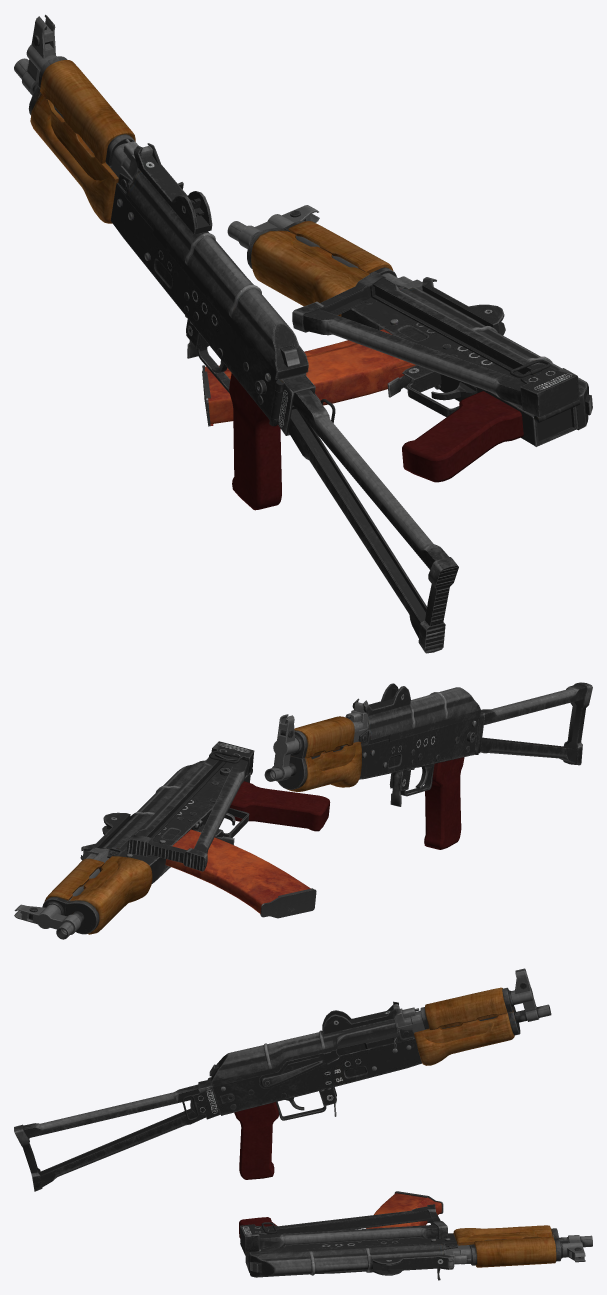
The model's file is aks74u.glb.
3 renders of one model, top to bottom at view 1: azimuth 30°, elevation 25°; view 2: azimuth 150°, elevation 25°; view 3: azimuth 270°, elevation 25°, orthographic. The views are drawn at different scales.
Parts seen in each view (by area): view 1: stock, stock.001, dust cover rear sight, receiver, receiver.001, pistol grip.001, magazine.003, hand guard bottom.001, pistol grip, hand guard top, hand guard bottom, dust cover rear sight.001 (+3 smaller); view 2: magazine.003, receiver, stock.001, dust cover rear sight, stock, hand guard bottom.001, receiver.001, pistol grip.001, pistol grip, hand guard bottom, dust cover rear sight.001, hand guard top (+3 smaller); view 3: receiver, stock, dust cover rear sight.001, stock.001, dust cover rear sight, hand guard bottom, pistol grip, hand guard top.001, hand guard top, receiver.001, hand guard bottom.001, safety switch lever (+4 smaller).
Part boxes in pixels (box(x1,y1,x2,y2)): stock: box(269, 374, 458, 653); stock.001: box(292, 271, 580, 423); dust cover rear sight: box(128, 143, 308, 379); receiver: box(110, 139, 306, 419); receiver.001: box(341, 273, 592, 446); pistol grip.001: box(402, 391, 523, 482); magazine.003: box(202, 329, 415, 426); hand guard bottom.001: box(247, 228, 369, 316); pistol grip: box(229, 373, 281, 510); hand guard top: box(38, 56, 135, 165); hand guard bottom: box(28, 86, 118, 223); dust cover rear sight.001: box(399, 277, 588, 430); magazine.003: box(165, 829, 316, 918); receiver: box(340, 702, 479, 806); stock.001: box(126, 741, 254, 871); dust cover rear sight: box(352, 683, 480, 741); stock: box(474, 682, 592, 765); hand guard bottom.001: box(65, 856, 152, 934); receiver.001: box(82, 768, 250, 883); pistol grip.001: box(229, 781, 330, 831); pistol grip: box(424, 757, 464, 849); hand guard bottom: box(277, 741, 361, 791); dust cover rear sight.001: box(80, 760, 205, 860); hand guard top: box(290, 716, 354, 757); receiver: box(209, 1004, 426, 1120); stock: box(14, 1077, 220, 1191); dust cover rear sight.001: box(249, 1243, 453, 1277); stock.001: box(240, 1204, 447, 1256); dust cover rear sight: box(211, 1001, 398, 1086); hand guard bottom: box(414, 1006, 520, 1065); pistol grip: box(234, 1102, 278, 1179); hand guard top.001: box(469, 1236, 562, 1267); hand guard top: box(420, 987, 513, 1029); receiver.001: box(245, 1233, 471, 1272); hand guard bottom.001: box(453, 1225, 558, 1245); safety switch lever: box(258, 1049, 339, 1088).
Size of the model in its own units: 222 by 199 by 472.
2 materials, 2 textured.
